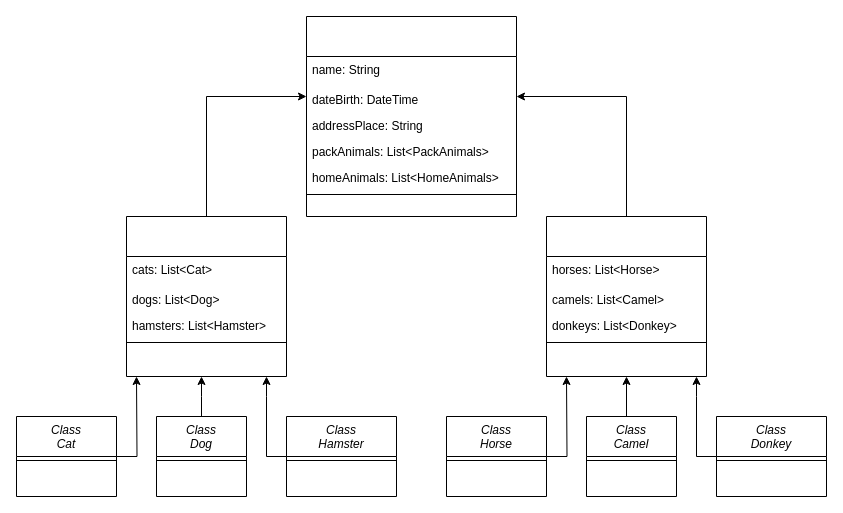
This 843x513 diagram has some shape labels left out. The box of each missing label's shape, as (x1, y1, x2, y2) in pixels:
Class Animals: (306, 16, 516, 216)
Class HomeAnimals: (126, 216, 286, 376)
Class PackAnimals: (546, 216, 706, 376)
